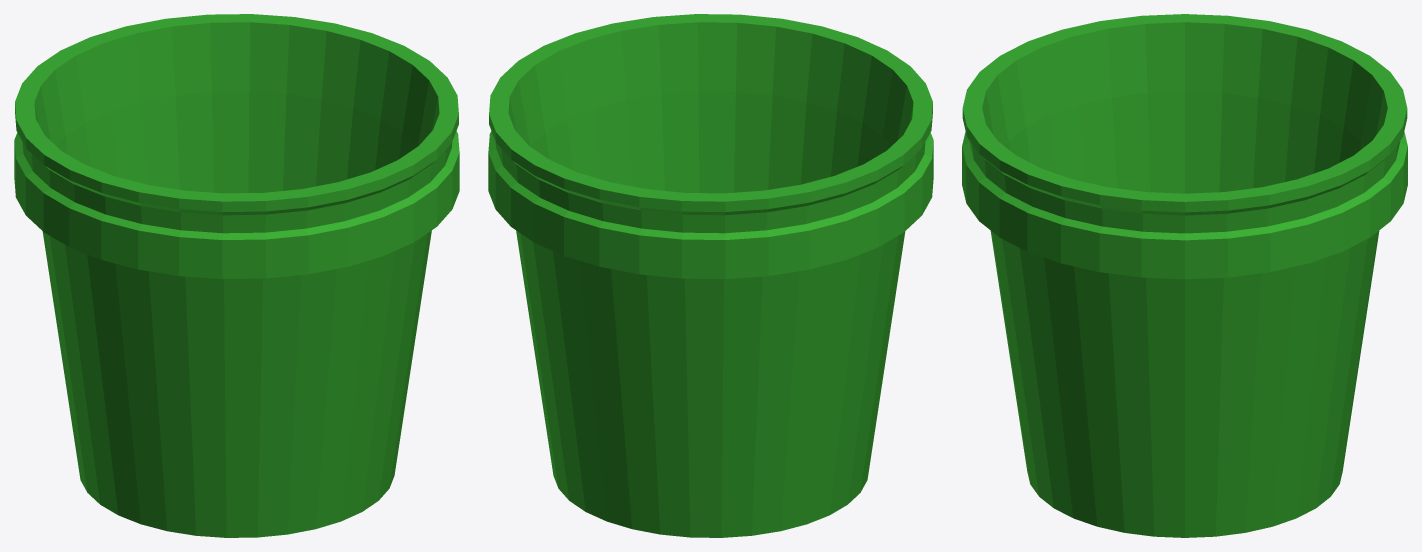
The model's file is plastic bucket.fbx.
The picture shows the model from 3 angles, left to right: view 1: azimuth 30°, elevation 25°; view 2: azimuth 150°, elevation 25°; view 3: azimuth 270°, elevation 25°; orthographic projection.
Visible parts, largest first — view 1: Cylinder; view 2: Cylinder; view 3: Cylinder.
Part boxes in pixels (left/top/right/bottom): Cylinder: left=14, top=14, right=459, bottom=537; Cylinder: left=488, top=14, right=933, bottom=537; Cylinder: left=962, top=14, right=1407, bottom=537.
Bounding box in the file's own units: 431 × 388 × 431.
